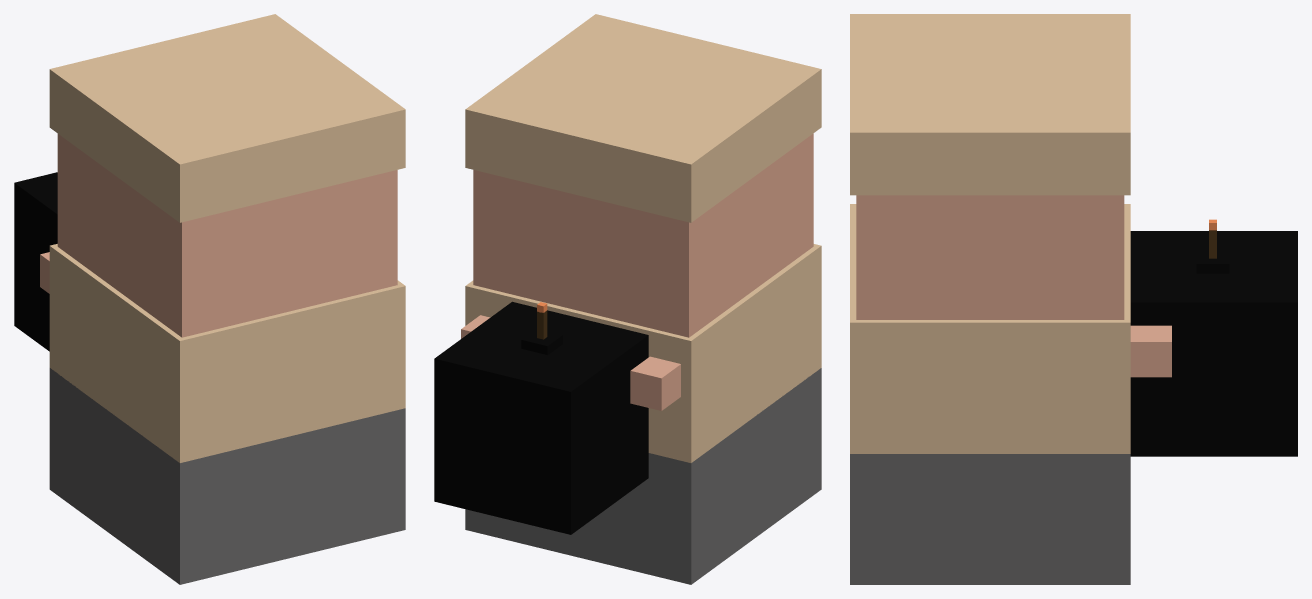
Rendered from doonBomber.gltf.
3 views of the same model, side by side, from view 1: azimuth 30°, elevation 25°; view 2: azimuth 150°, elevation 25°; view 3: azimuth 270°, elevation 25° (orthographic). The views are drawn at different scales.
Visible parts, largest first — view 1: Cube.004, Cube.001, Cube.002, Cube.003, Cube; view 2: Cube.004, Cube, Cube.003, Cube.002, Cube.001, Cube.008, Cube.005; view 3: Cube.004, Cube.001, Cube.002, Cube, Cube.003, Cube.009, Cube.005.
Part boxes in pixels (box(x1,y1,x2,y2)): Cube.004: box(49, 14, 405, 222); Cube.001: box(49, 244, 405, 462); Cube.002: box(49, 368, 405, 584); Cube.003: box(57, 134, 397, 337); Cube: box(14, 172, 57, 351); Cube.004: box(465, 14, 821, 222); Cube: box(434, 301, 648, 534); Cube.003: box(473, 133, 813, 337); Cube.002: box(465, 368, 821, 584); Cube.001: box(465, 244, 821, 462); Cube.008: box(630, 356, 680, 410); Cube.005: box(521, 328, 562, 354); Cube.004: box(850, 14, 1130, 195); Cube.001: box(850, 204, 1130, 453); Cube.002: box(850, 454, 1130, 584); Cube: box(1130, 231, 1297, 456); Cube.003: box(856, 195, 1124, 319); Cube.009: box(1130, 325, 1171, 377); Cube.005: box(1196, 250, 1229, 273).
Bounding box in the file's own units: 0.9151 × 1.63 × 1.46.
